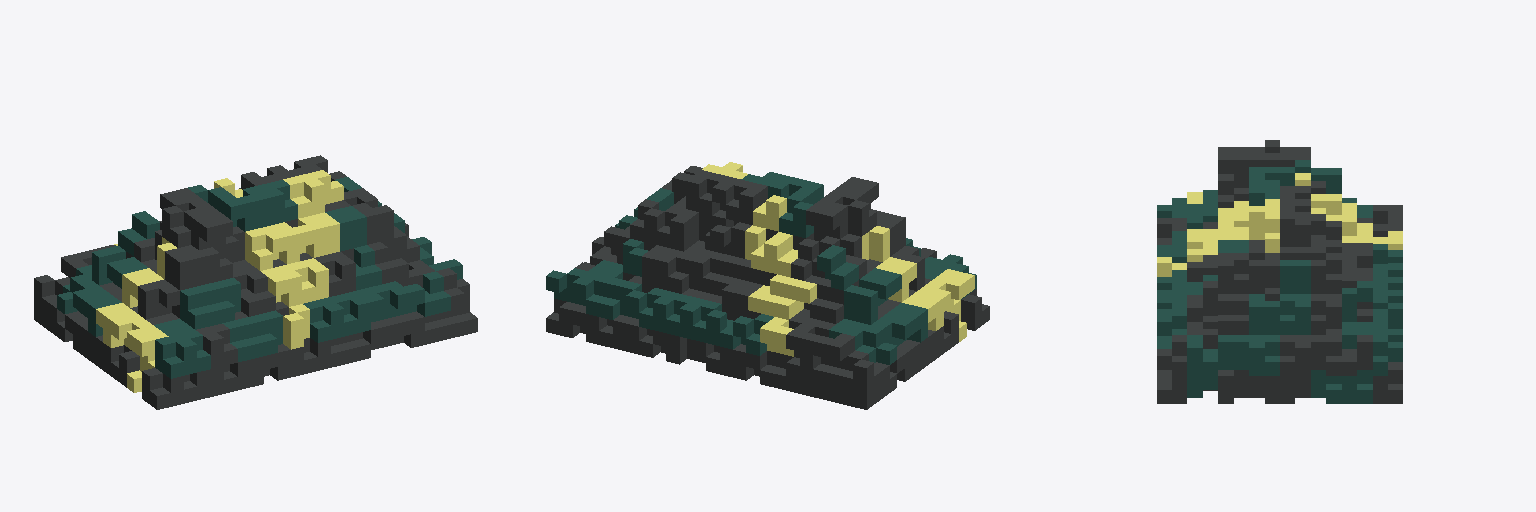
3 renders of one model, left to right at view 1: azimuth 30°, elevation 25°; view 2: azimuth 150°, elevation 25°; view 3: azimuth 270°, elevation 25°, orthographic.
Parts seen in each view (by area): view 1: GoldOre1; view 2: GoldOre1; view 3: GoldOre1.
Boxes of the visible parts, x1,y1,x2,y2 form: GoldOre1: [34, 155, 477, 409]; GoldOre1: [546, 162, 989, 409]; GoldOre1: [1157, 140, 1402, 403].
Bounding box in the file's own units: 6 × 2.5 × 4.
1 materials, 1 textured.